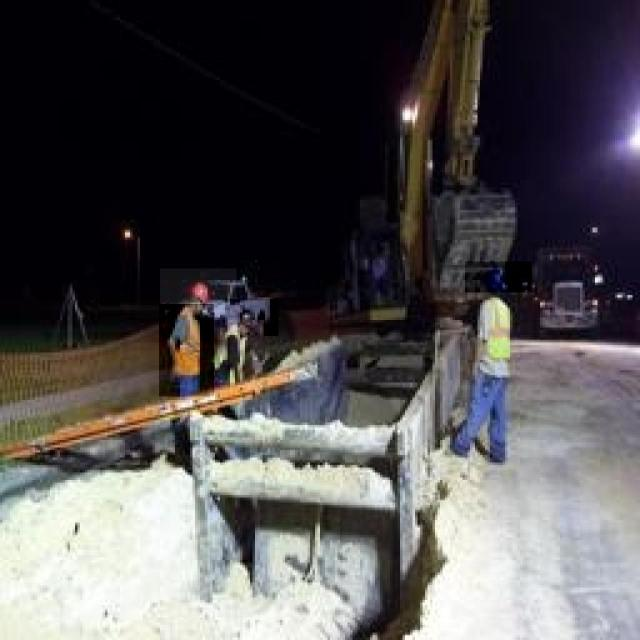Helmet: (160, 268, 236, 326), (465, 261, 531, 305), (225, 299, 279, 336)
Safety Vest: (454, 293, 534, 382), (159, 304, 214, 396), (210, 320, 264, 403)
